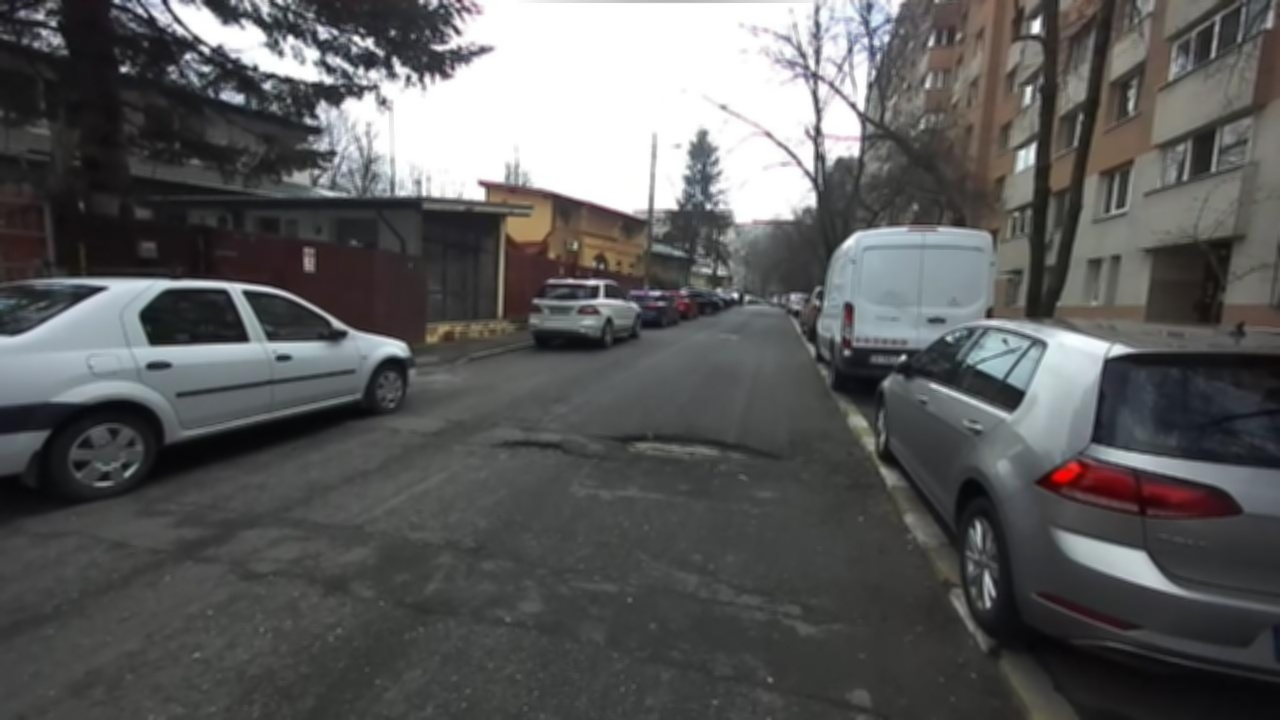pothole: (602, 429, 789, 465), (491, 435, 599, 462)
